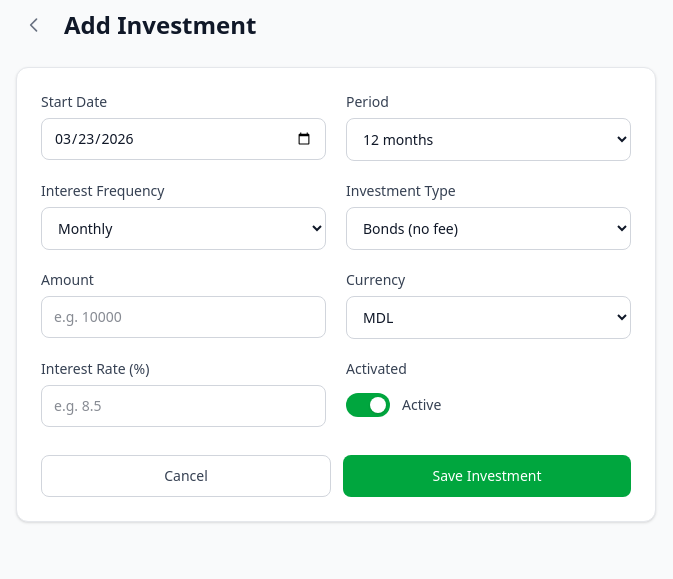
Test case: InvestmentForm › shows validation error for empty amount on submit
What coordinates should you click on to do the following:
click the button "Save Investment"
I would click on:
 (487, 476)
Its box is [343,455,631,497].
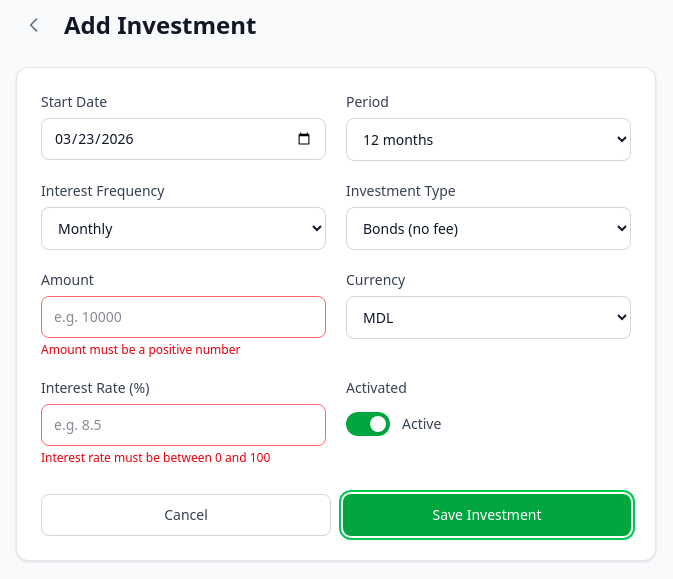
Result: the text "Amount must be a positive number" is shown at [41,341,240,358]
